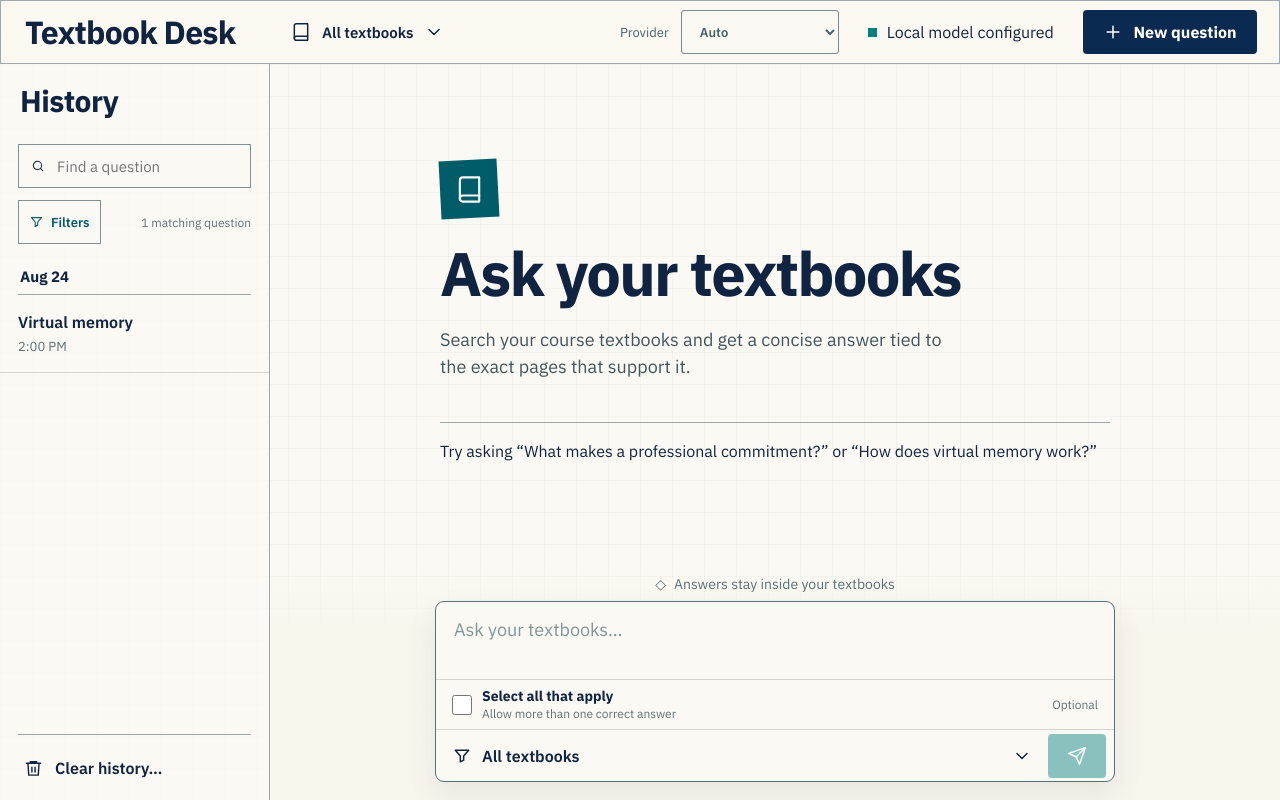
Test: Textbook Desk › labels regions with headings and legends instead of decorative eyebrow labels
Check: the heading "Ask your textbooks" is shown, box [440, 233, 961, 313]
Check: the text "Try asking “What makes a professional commitment?”" is shown, box [440, 441, 1097, 461]
Click the button with aria-label "Choose textbook scope". click: [531, 756]
box: [436, 730, 1048, 781]
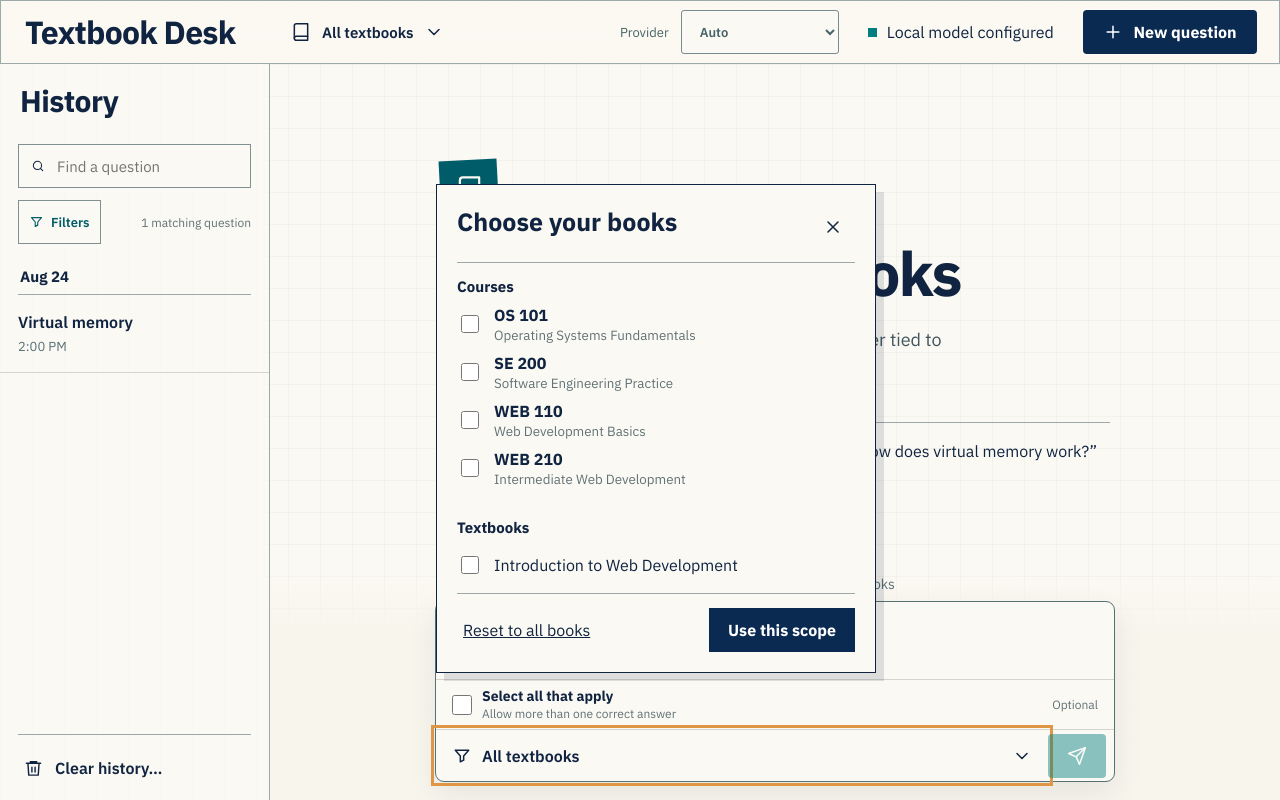
Check: the element "Courses" is shown, box [457, 277, 696, 488]
Check: the element "Textbooks" is shown, box [457, 518, 738, 575]
Click the button "Filters". click: [59, 222]
box: [18, 200, 100, 244]
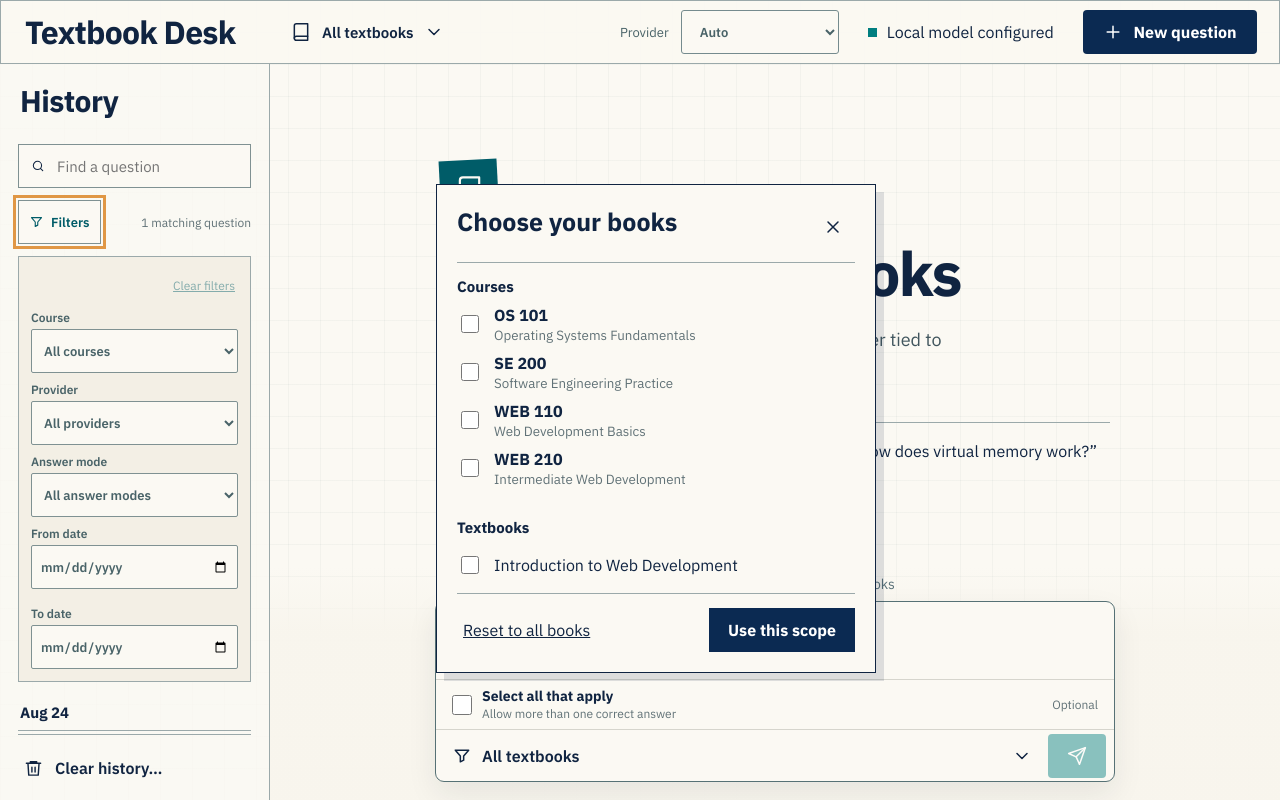
Check: the element named "History filters" is shown, box [18, 256, 251, 682]
Click the button "Clear history…". click: [134, 767]
box: [18, 734, 251, 799]
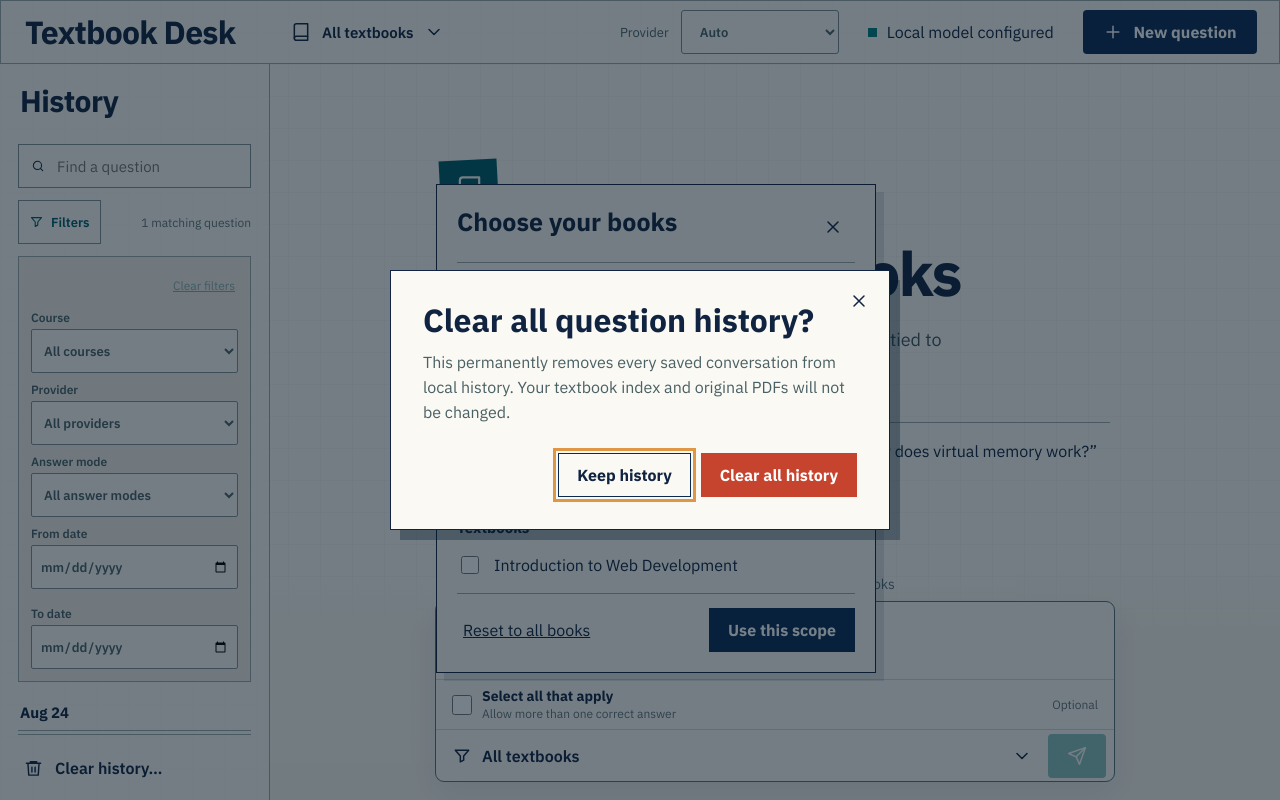
Check: the dialog "Clear all question history?" is shown, box [390, 270, 890, 530]
